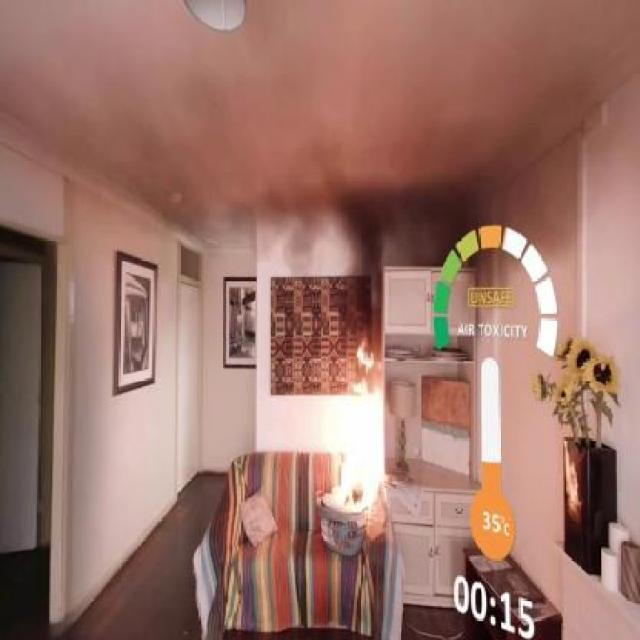fire: (288, 378, 410, 546)
smoke: (240, 147, 494, 326)
